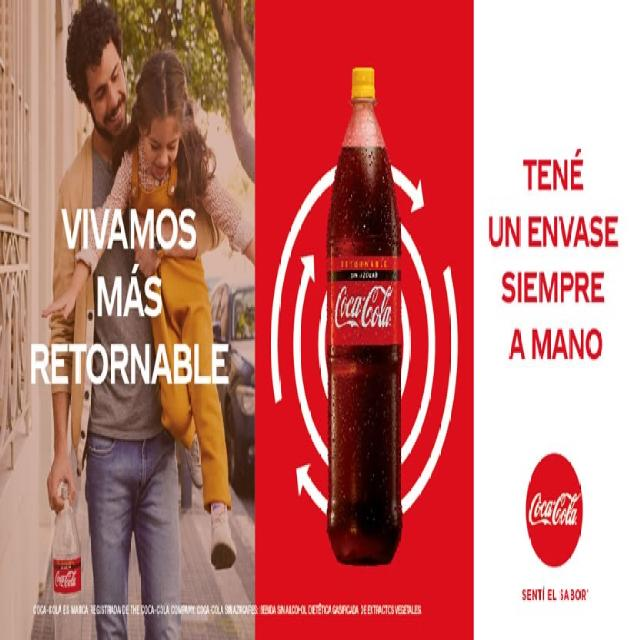coca cola: (331, 284, 401, 340), (527, 479, 585, 541)
